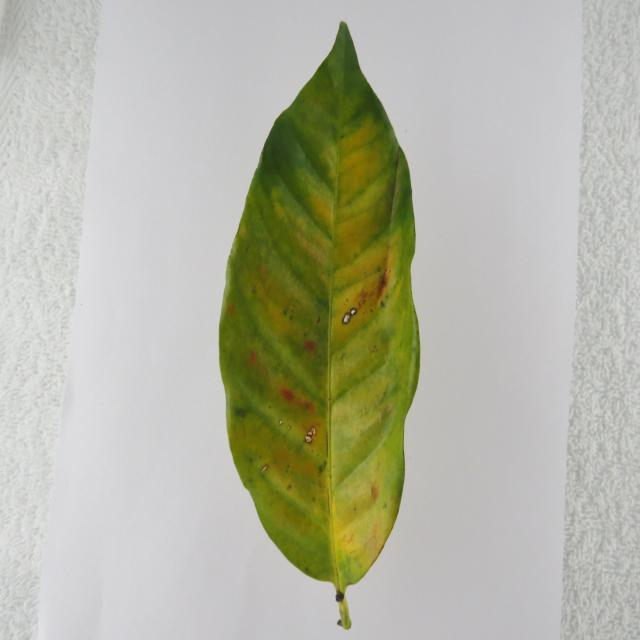DeficienciaNutricional-Nitrogeno: (222, 30, 418, 585)
